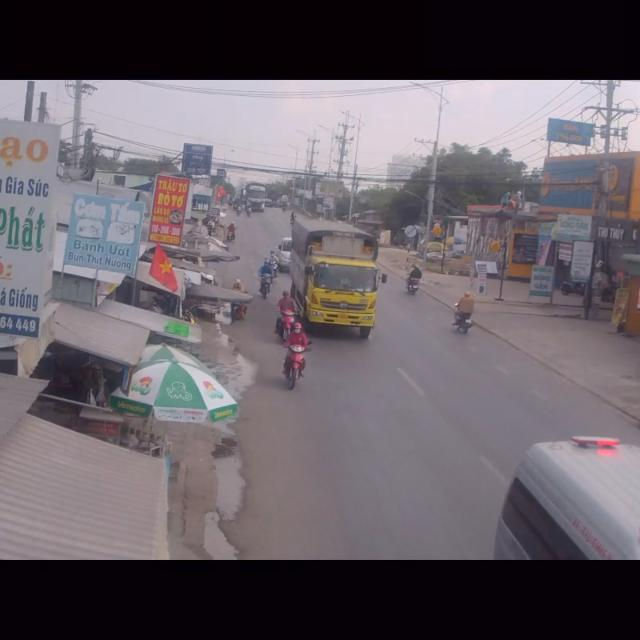car: (494, 427, 640, 556)
motorbike: (282, 319, 310, 395), (453, 288, 474, 339), (274, 287, 294, 340), (404, 260, 422, 298), (258, 255, 271, 299)
truck: (304, 222, 381, 340)
